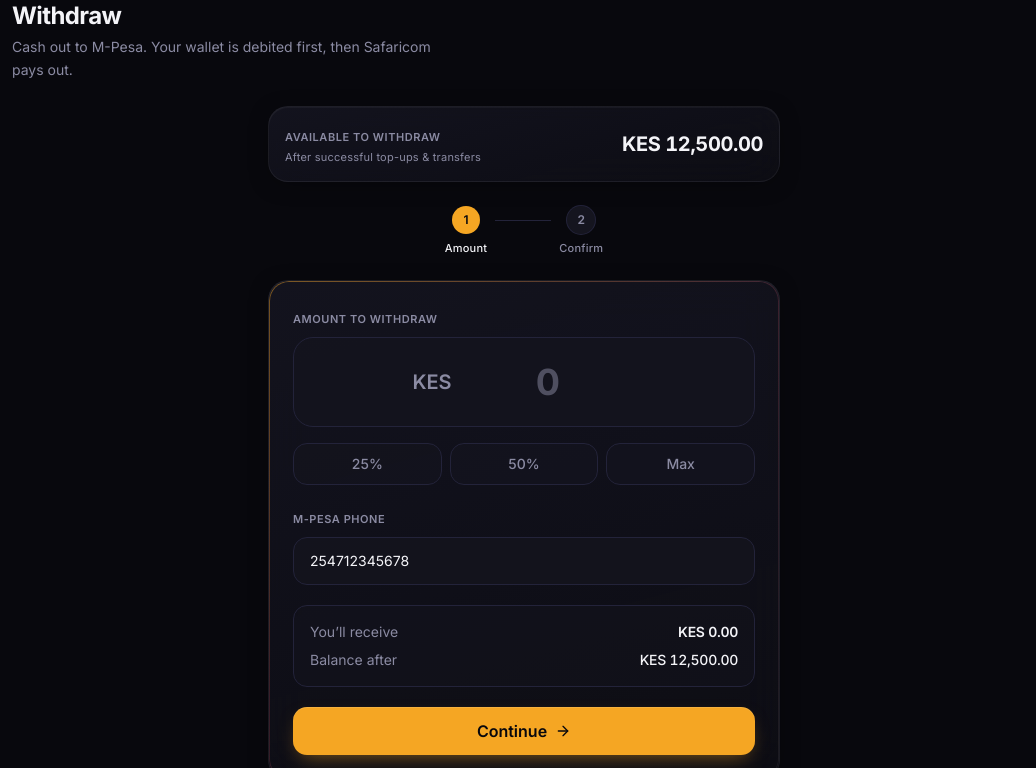
Test: Withdraw › blocks a withdrawal that exceeds the balance
The image size is (1036, 768).
Type "20000" into the field named "withdrawal amount" at (548, 382), box top-left (460, 362), bottom-right (636, 402)
(page scrolled)
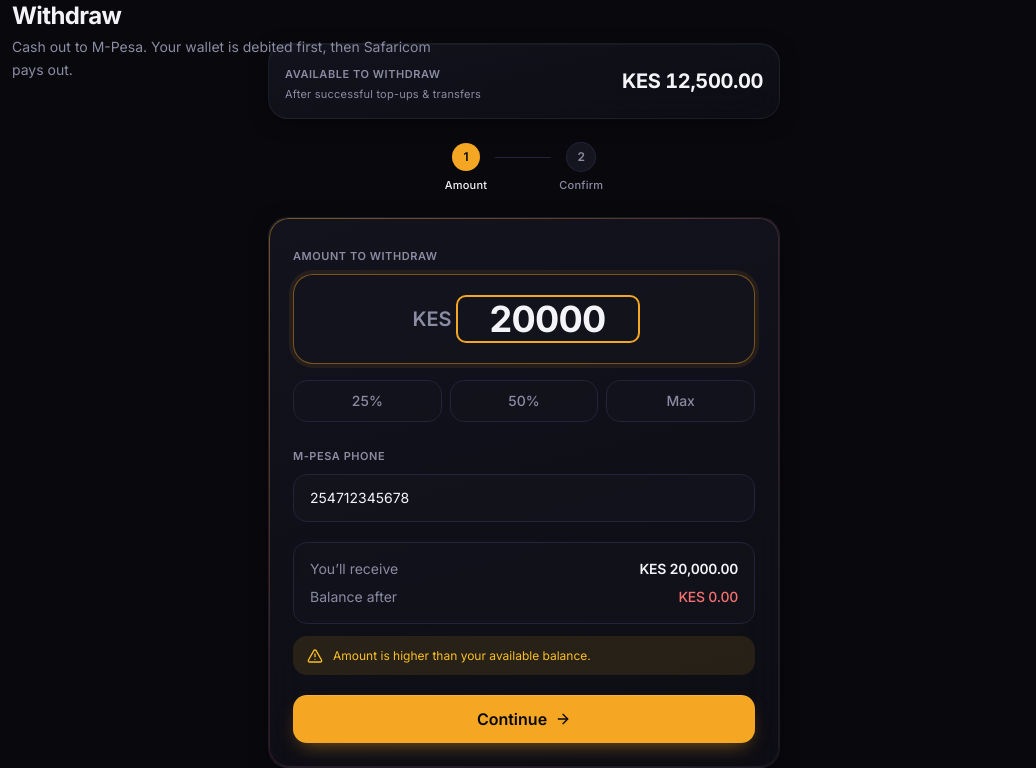
Click the button "Continue" at (524, 719), box top-left (293, 695), bottom-right (755, 743)
(page scrolled)
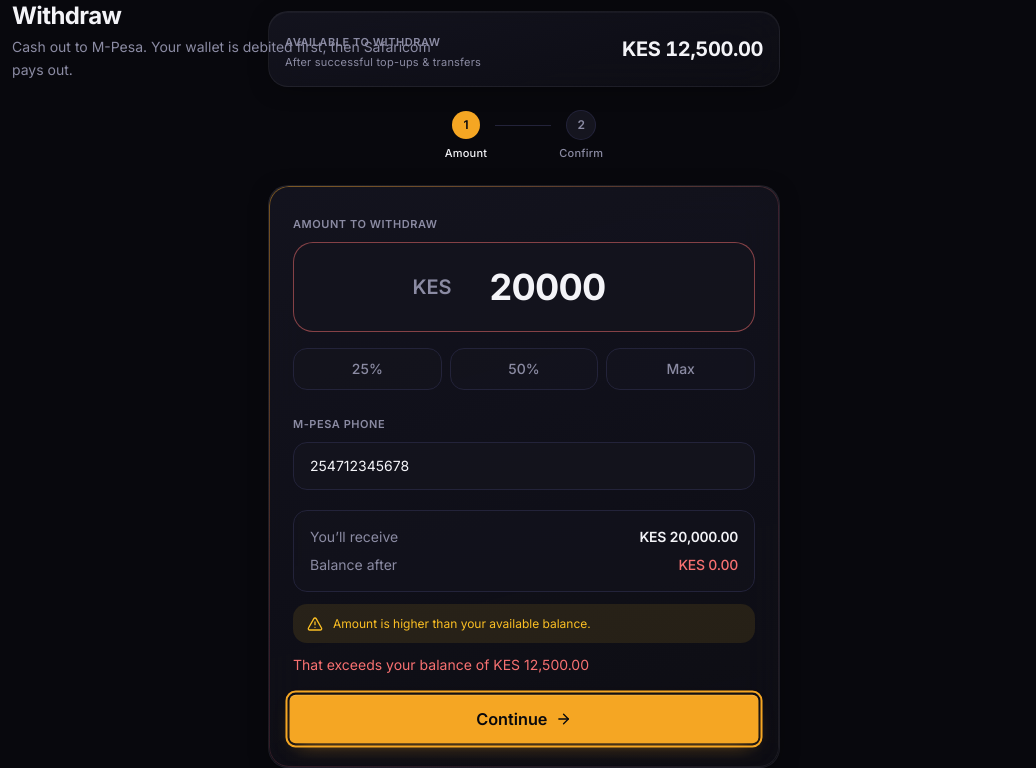
Expected: the button "Continue" is shown, top-left (290, 695), bottom-right (758, 743)
Expected: the message shows "exceeds your balance", top-left (293, 656), bottom-right (589, 673)
